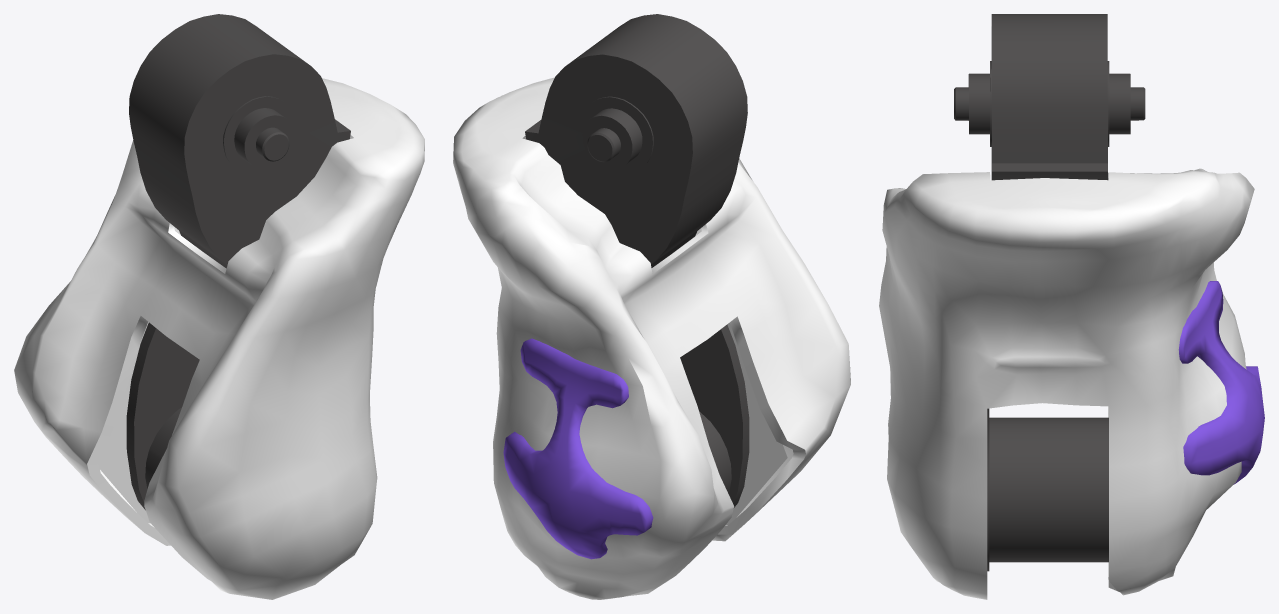
Rendered from LKneePitch.dae.
The picture shows the model from 3 angles, left to right: view 1: azimuth 30°, elevation 25°; view 2: azimuth 150°, elevation 25°; view 3: azimuth 270°, elevation 25°; orthographic projection. The views are drawn at different scales.
Parts seen in each view (by area): view 1: LKneePitch; view 2: LKneePitch; view 3: LKneePitch.
Part boxes in pixels (<box>): LKneePitch: <box>14,14,424,599</box>; LKneePitch: <box>453,14,850,599</box>; LKneePitch: <box>879,14,1264,599</box>.
Bounding box in the file's own units: 0.8968 × 0.9329 × 1.48.
Materials: 1 (1 with a texture image).
